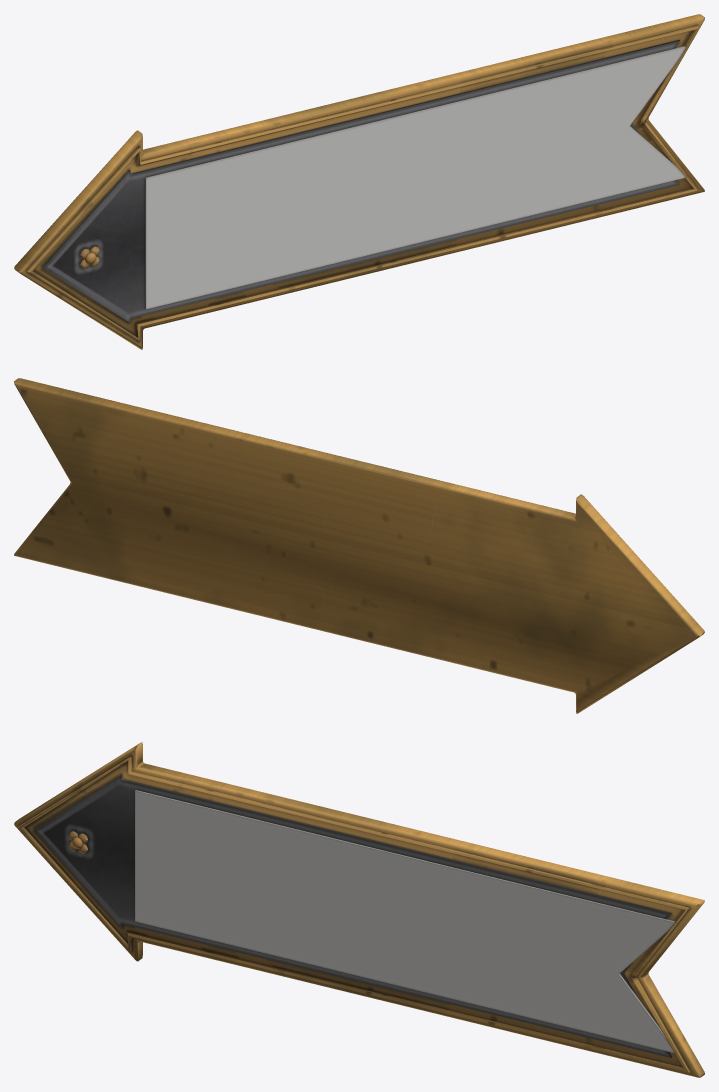
Rendered from ArrowBoardLeft.fbx.
The picture shows the model from 3 angles, top to bottom: view 1: azimuth 30°, elevation 25°; view 2: azimuth 150°, elevation 25°; view 3: azimuth 330°, elevation 25°; orthographic projection.
Parts seen in each view (by area): view 1: ArrowBoardLeft_Field, ArrowBoardLeft_Main; view 2: ArrowBoardLeft_Main; view 3: ArrowBoardLeft_Field, ArrowBoardLeft_Main.
Boxes of the visible parts, bbox=[...] form: ArrowBoardLeft_Field: bbox=[145, 46, 688, 309]; ArrowBoardLeft_Main: bbox=[14, 14, 704, 349]; ArrowBoardLeft_Main: bbox=[14, 378, 704, 713]; ArrowBoardLeft_Field: bbox=[135, 790, 677, 1053]; ArrowBoardLeft_Main: bbox=[14, 742, 704, 1077].
Size of the model in its own units: 329 by 99.09 by 9.88.
